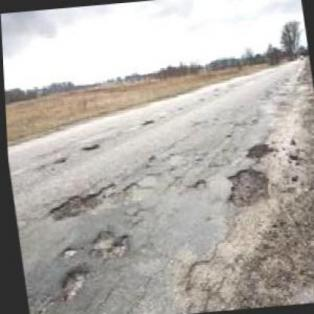Hueco: (41, 179, 115, 221), (221, 165, 271, 208), (84, 228, 127, 261), (52, 264, 89, 302), (241, 140, 274, 160), (57, 246, 78, 258)
